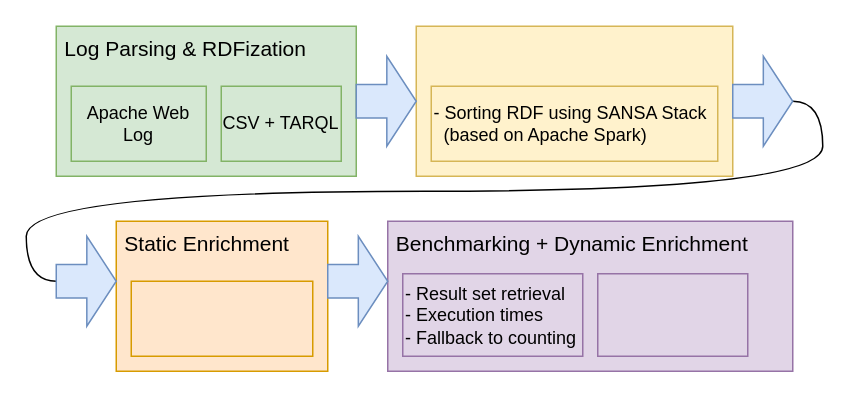
Image size: 849x398. Some labels were removed from this diagram. The box of each missing label's shape, as (x1, y1, x2, y2) in pixels:
- BGP Stats - Join Vertex Stats: (596, 272, 748, 356)
- SPIN - Structural Features: (130, 280, 313, 356)
Query-centric Log Inversion: (415, 25, 733, 176)
